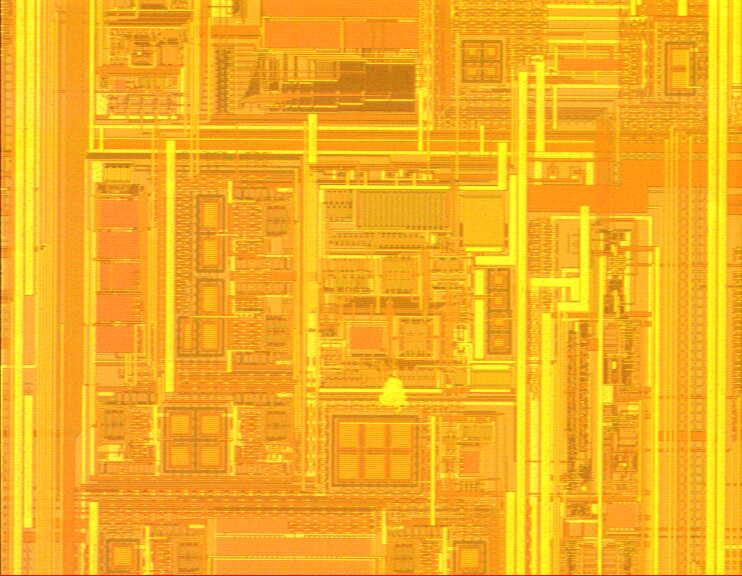BLOCK ETCH: (369, 371, 421, 423)
